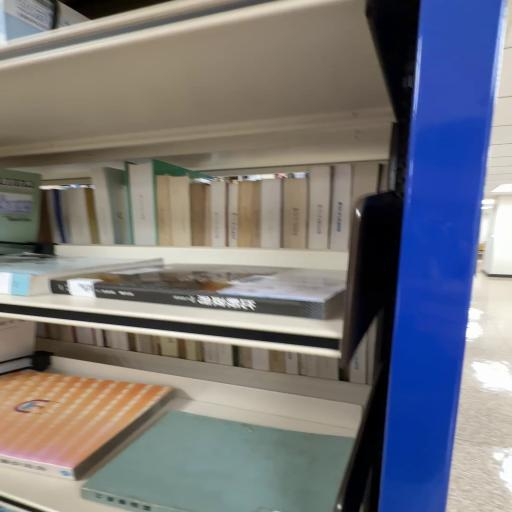flat: (83, 411, 352, 512), (1, 371, 174, 481), (52, 265, 347, 321)
